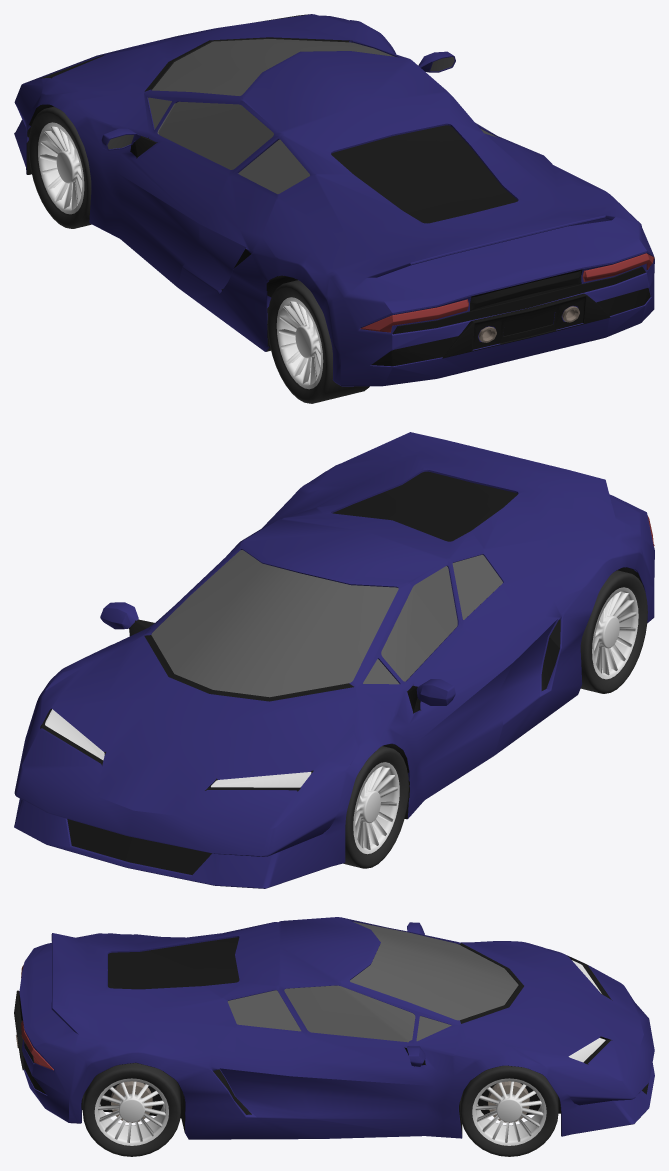
Rendered from SportsCar.fbx.
3 views of the same model, one above another, from view 1: azimuth 30°, elevation 25°; view 2: azimuth 150°, elevation 25°; view 3: azimuth 270°, elevation 25° (orthographic). The views are drawn at different scales.
Parts seen in each view (by area): view 1: SportsCar, Tire_RL, Tire_FL; view 2: SportsCar, Tire_RL, Tire_FL; view 3: SportsCar, Tire_RR, Tire_FR.
Boxes of the visible parts, <box> form: SportsCar: <box>14,14,654,386</box>; Tire_RL: <box>267,280,369,403</box>; Tire_FL: <box>28,106,91,228</box>; SportsCar: <box>14,432,654,888</box>; Tire_RL: <box>580,570,647,693</box>; Tire_FL: <box>343,746,408,868</box>; SportsCar: <box>14,917,654,1139</box>; Tire_RR: <box>82,1063,180,1156</box>; Tire_FR: <box>460,1065,558,1156</box>.
Size of the model in its own units: 2.39 by 4.81 by 1.28.
